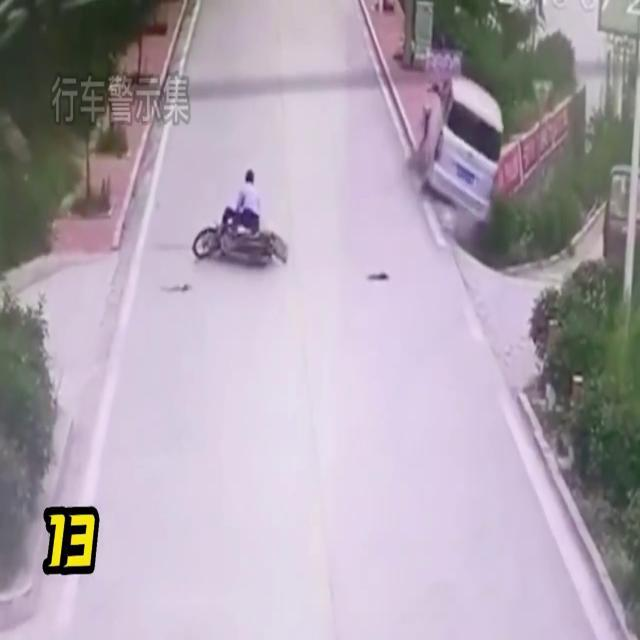multiple_accident: (195, 103, 317, 303), (400, 57, 512, 233)
